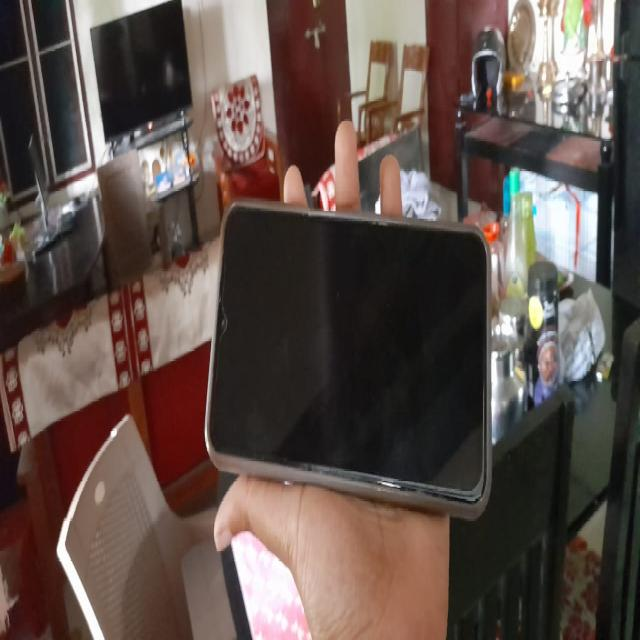Mobile - Recyclable: (199, 185, 517, 551)
